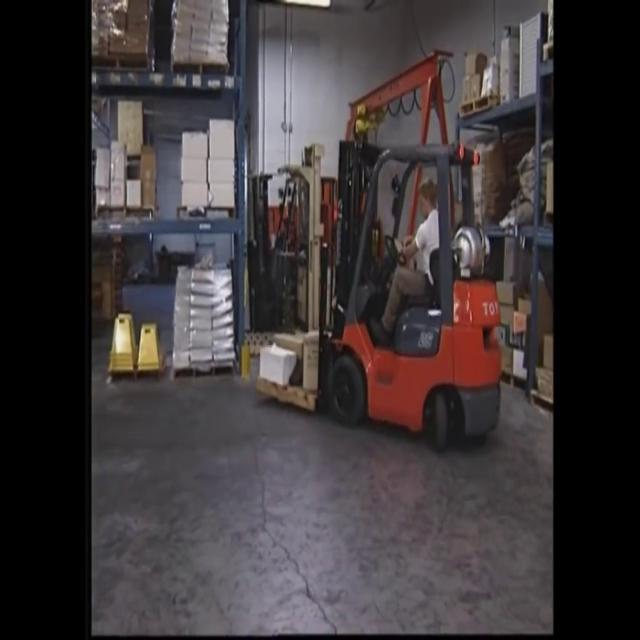forklift: (313, 130, 503, 446)
